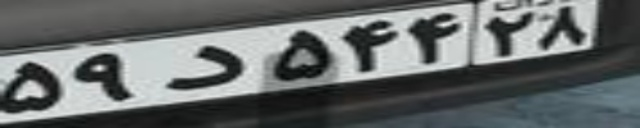2: (483, 10, 532, 57)
4: (339, 20, 398, 73), (406, 12, 460, 64)
5: (0, 60, 62, 111), (272, 29, 332, 81)
8: (538, 5, 584, 49)
9: (74, 52, 136, 102)
dal: (160, 43, 247, 91)
